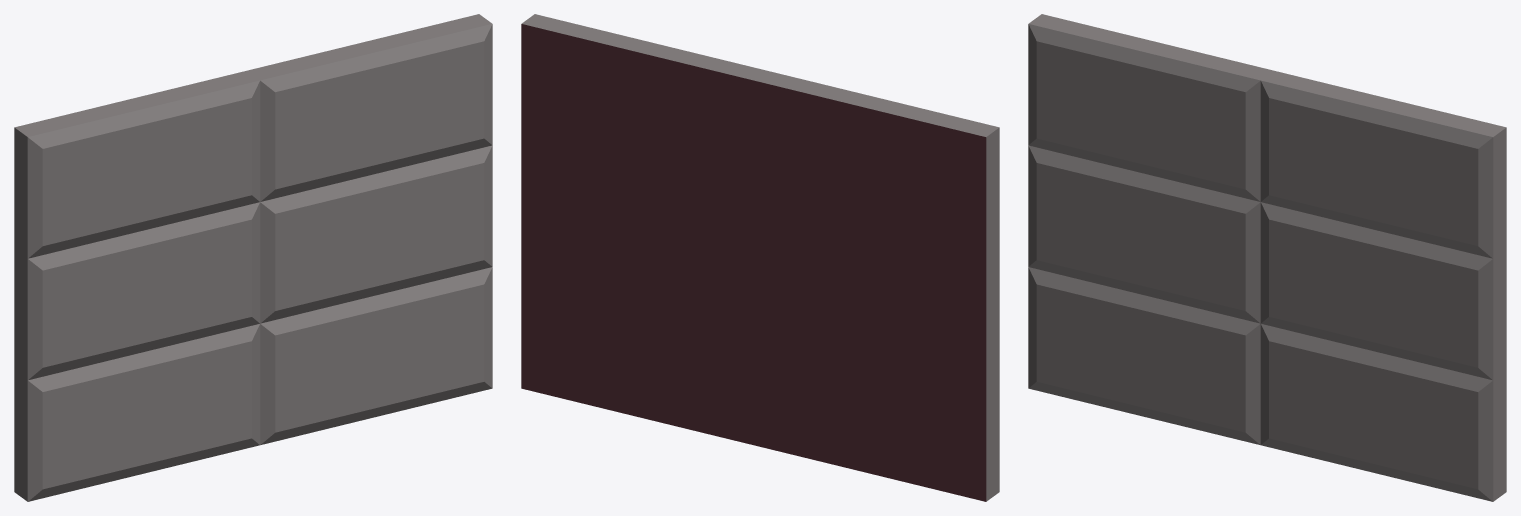
The model's file is scifi-scifi-wall.glb.
The picture shows the model from 3 angles, left to right: view 1: azimuth 30°, elevation 25°; view 2: azimuth 150°, elevation 25°; view 3: azimuth 330°, elevation 25°; orthographic projection.
Parts seen in each view (by area): view 1: scifi-wall; view 2: scifi-wall; view 3: scifi-wall.
Boxes of the visible parts, x1=… form: scifi-wall: x1=14, y1=14, x2=492, y2=501; scifi-wall: x1=521, y1=14, x2=999, y2=501; scifi-wall: x1=1028, y1=14, x2=1506, y2=501.
Bounding box in the file's own units: 4 × 3 × 0.25.
